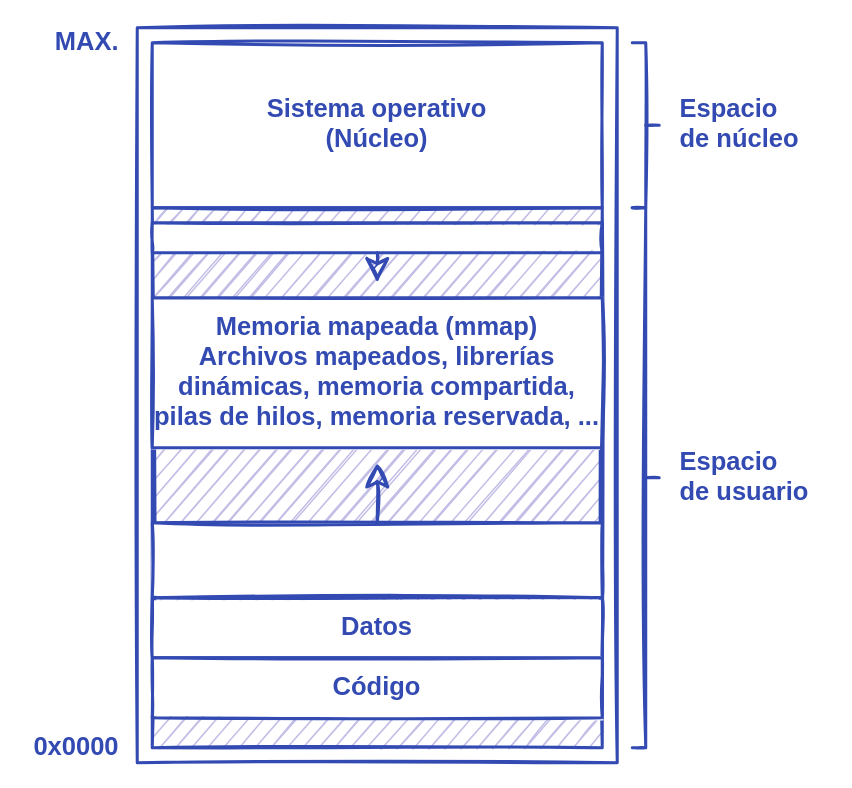
The diagram is 852 pixels wide and 788 high, and some of its shapes have lost their labels. The centre of each missing label's shape, as x and y in pixels:
"Montón" goes at pixel 376 559.
"Pila principal" goes at pixel 376 237.
